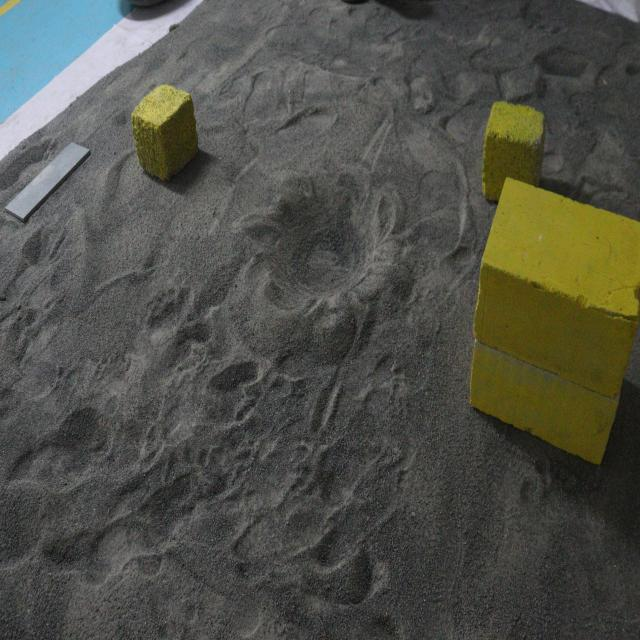box: (464, 182, 640, 476), (473, 88, 550, 197), (135, 72, 205, 188)
crater: (250, 165, 408, 339)
